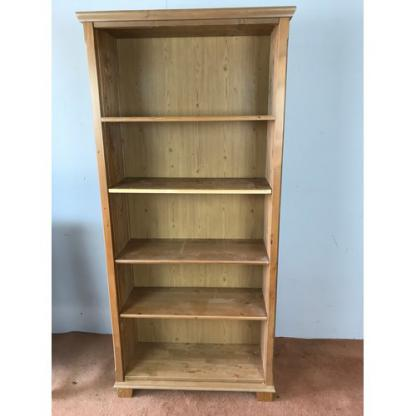lamp: (75, 6, 296, 402)
